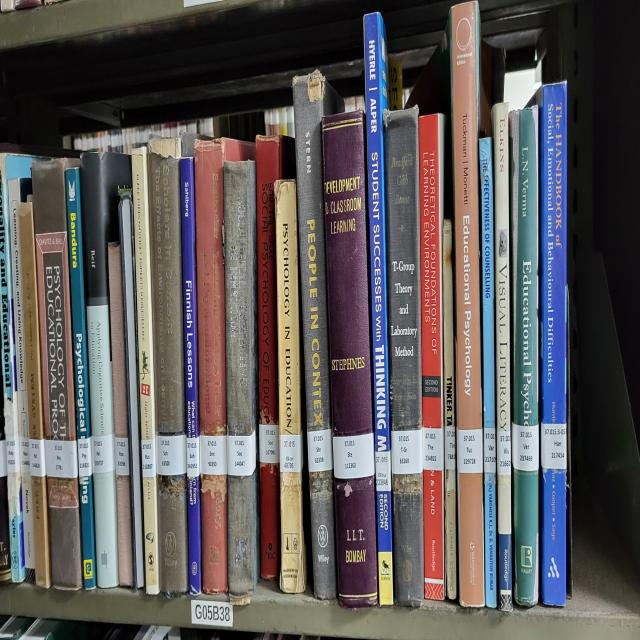Book: (410, 0, 485, 606), (322, 111, 378, 606), (292, 70, 344, 598), (195, 138, 255, 595), (80, 152, 132, 587), (32, 160, 82, 590), (149, 141, 189, 595), (364, 14, 394, 603), (256, 135, 295, 579), (536, 81, 568, 606), (224, 162, 260, 595), (509, 106, 539, 606), (0, 152, 31, 582), (275, 179, 306, 593), (419, 114, 445, 601), (66, 168, 96, 590), (131, 146, 159, 595), (19, 203, 51, 587), (385, 108, 421, 430), (119, 192, 145, 590), (492, 103, 512, 611), (9, 179, 35, 568), (180, 157, 201, 593), (479, 138, 498, 609), (109, 241, 134, 587), (442, 219, 458, 601)
Label: (332, 433, 375, 479), (391, 427, 422, 473), (511, 422, 539, 471), (45, 438, 78, 479), (156, 433, 186, 476), (228, 430, 256, 476), (541, 422, 566, 471), (456, 427, 482, 473), (200, 436, 228, 476), (308, 427, 332, 473), (422, 427, 444, 471), (92, 433, 115, 473), (280, 433, 302, 473), (259, 425, 280, 463), (496, 430, 511, 476), (29, 438, 46, 476), (375, 452, 391, 492), (141, 438, 156, 479), (186, 436, 200, 479), (115, 436, 130, 476), (78, 438, 92, 479), (484, 427, 496, 473), (6, 436, 20, 473), (445, 425, 456, 471)
